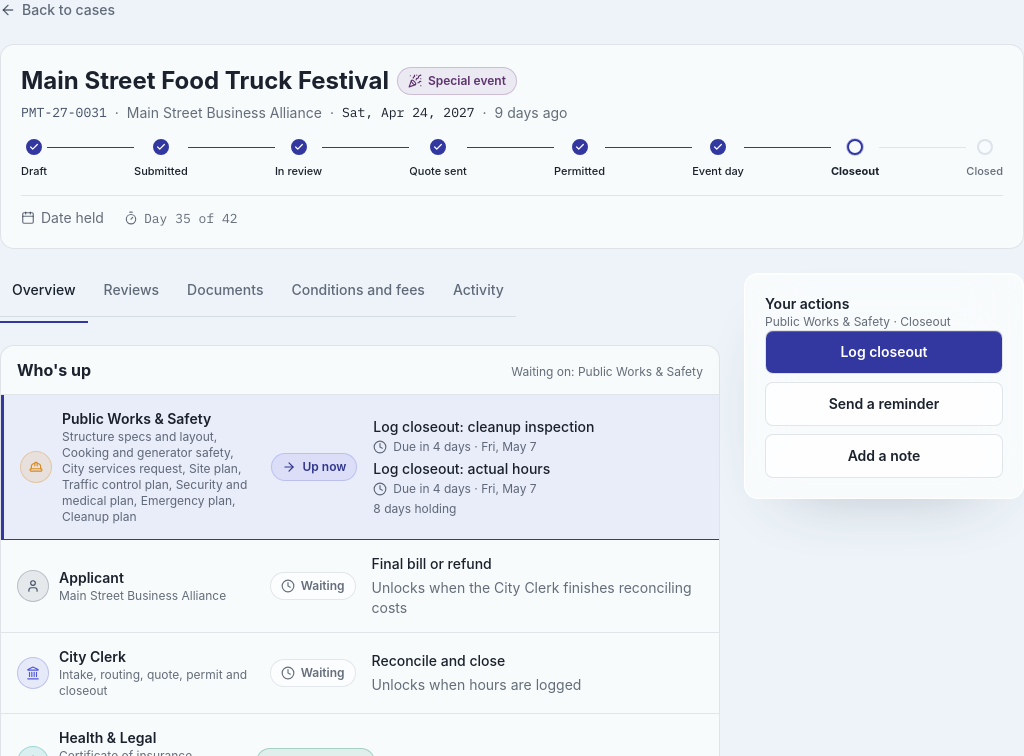
case detail: S6 once the hours are in › Log closeout is taken once: the row is disabled and says the Clerk has the case, with no dead review row above it
This screenshot has width=1024, height=756.
Click the button "Log closeout".
click(884, 352)  # box [765,330,1003,374]
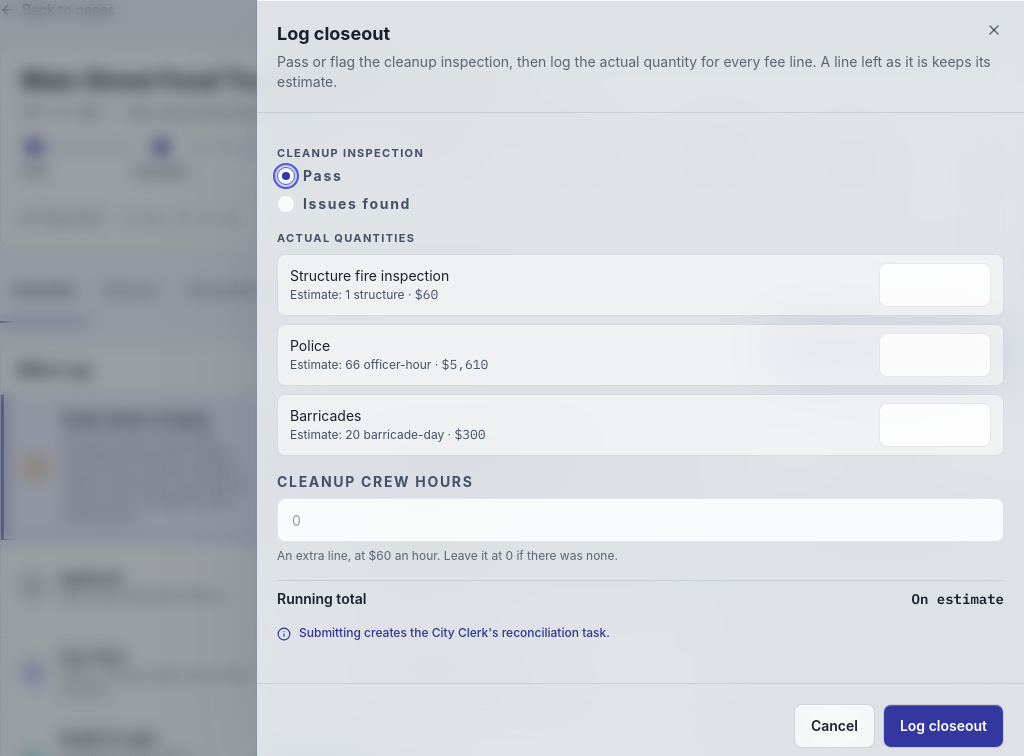
Type "72" into the number field named "Actual: Police".
click(935, 355); type("72")  # box [879,333,991,377]
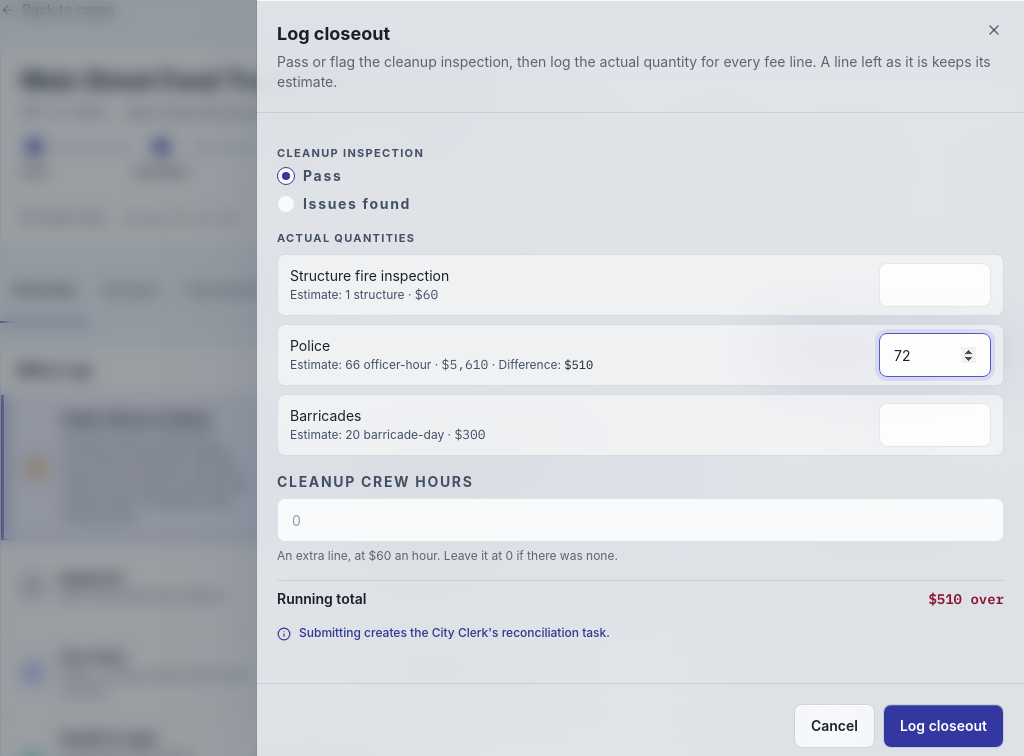
Type "4" into the number field labelled "Cleanup crew hours".
click(640, 520); type("4")  # box [277,498,1004,542]
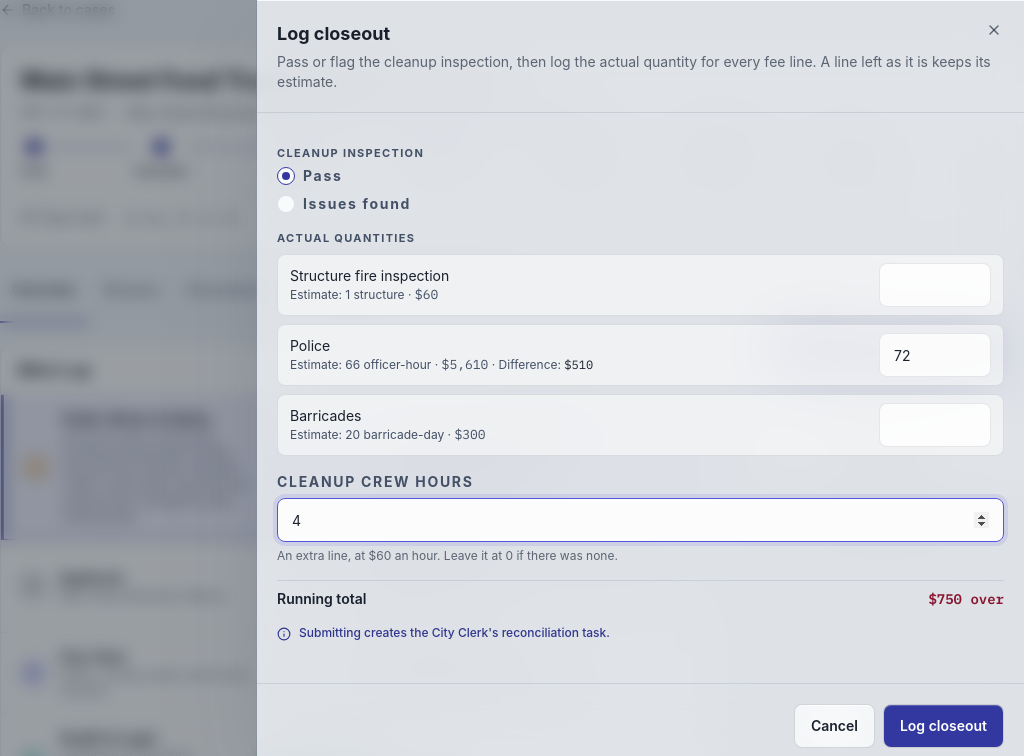
Click the button "Log closeout".
click(943, 726)  # box [883,704,1004,748]
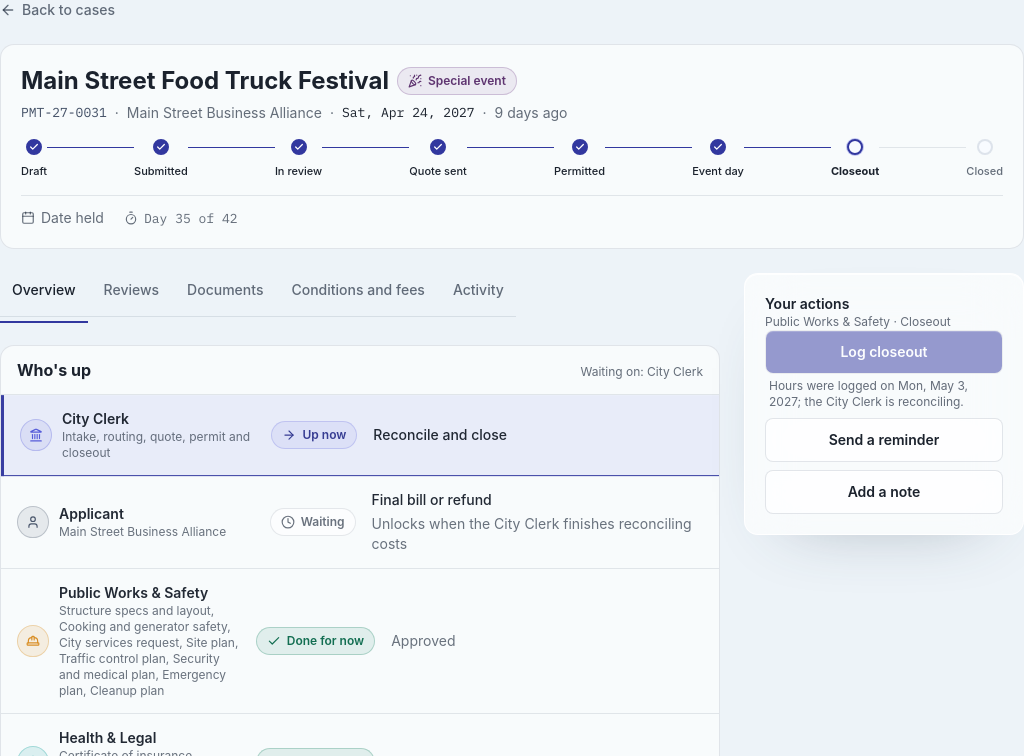
Expected: the button "Log closeout" is disabled, [765,330,1003,374]
Expected: the text "Hours were logged on Mon, May 3, 2027; the City Clerk is reconciling." is shown, [769,378,968,409]
